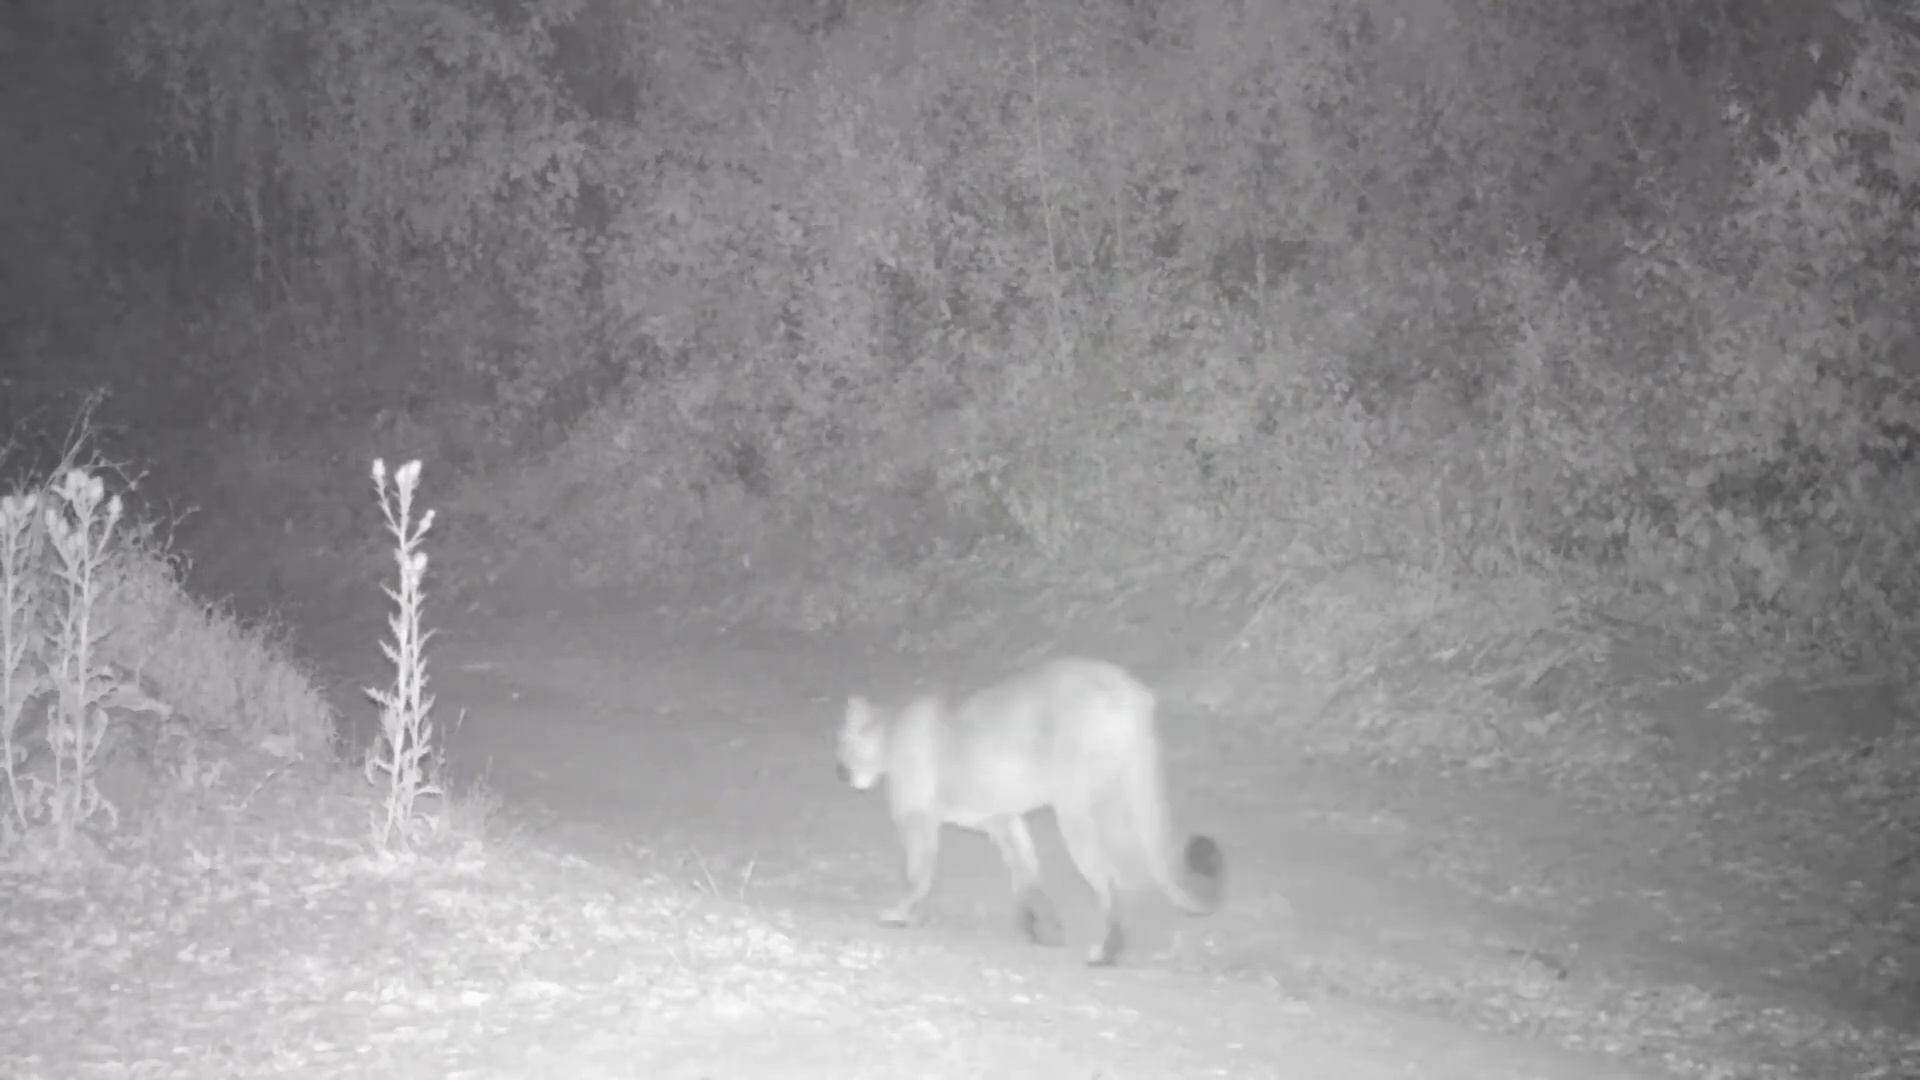Lion: (831, 653, 1226, 967)
